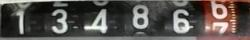digits: (210, 1, 232, 37), (8, 2, 32, 34), (82, 8, 108, 33), (172, 8, 196, 33), (131, 4, 149, 29), (51, 8, 68, 34)
